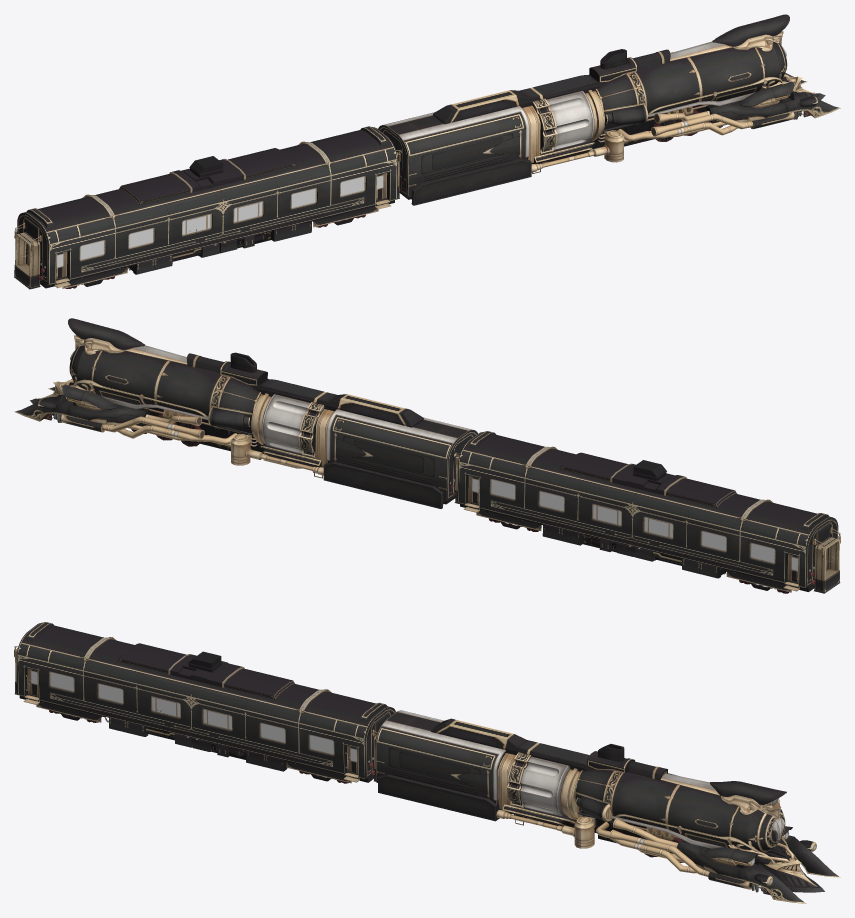
Rendered from train.glb.
3 views of the same model, one above another, from view 1: azimuth 30°, elevation 25°; view 2: azimuth 150°, elevation 25°; view 3: azimuth 330°, elevation 25° (orthographic).
Visible parts, largest first — view 1: mesh_45_70.nr; view 2: mesh_45_70.nr; view 3: mesh_45_70.nr.
Part boxes in pixels (left/top/right/bottom): mesh_45_70.nr: left=14, top=14, right=840, bottom=289; mesh_45_70.nr: left=14, top=318, right=840, bottom=593; mesh_45_70.nr: left=14, top=622, right=840, bottom=903.
Bounding box in the file's own units: 9.95 × 1.16 × 1.08.
6 materials, 6 textured.
